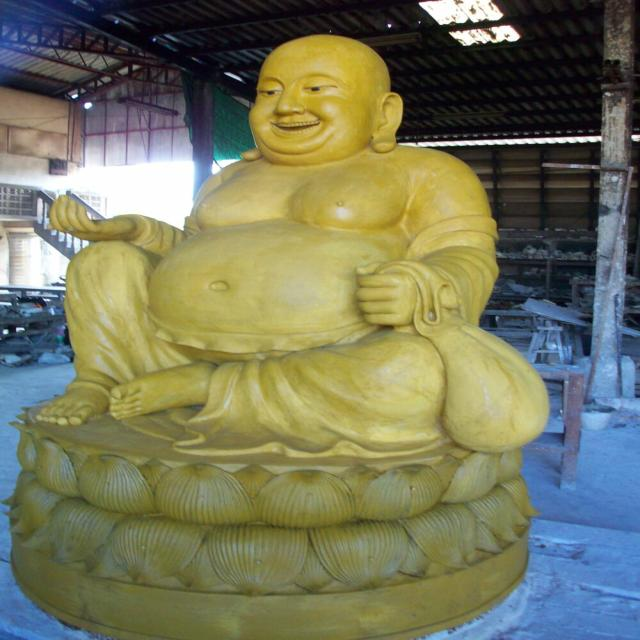Smiling Buddha: (49, 31, 489, 432)
